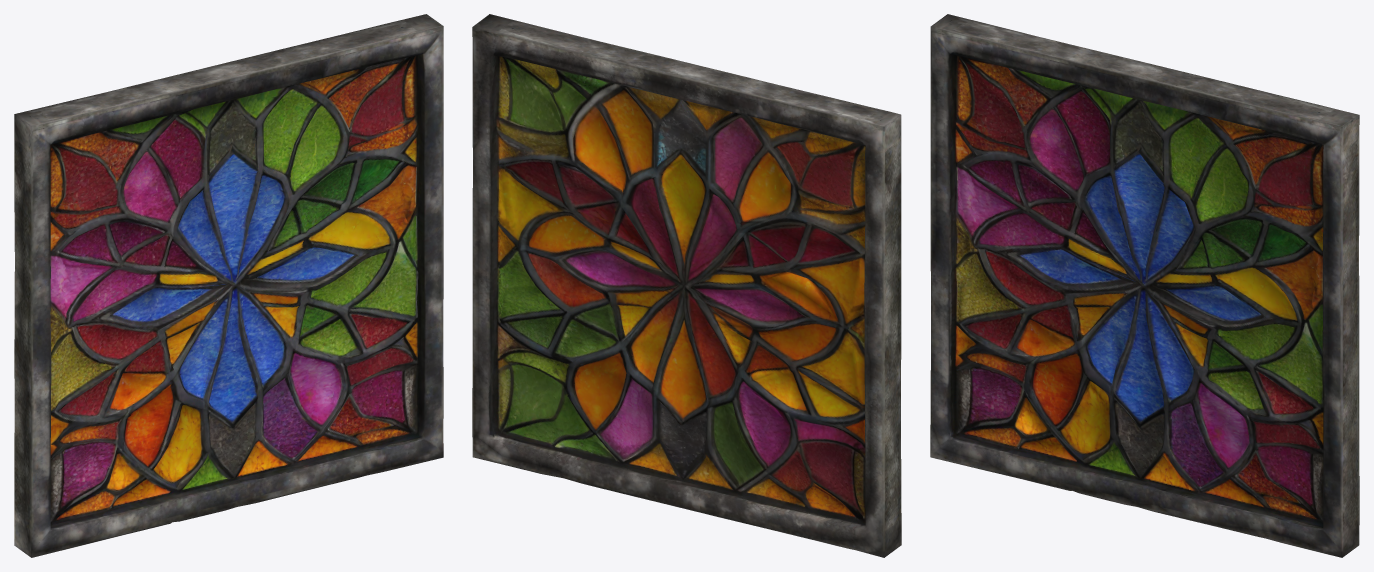
Rendered from testTile7.glb.
3 renders of one model, left to right at view 1: azimuth 30°, elevation 25°; view 2: azimuth 150°, elevation 25°; view 3: azimuth 330°, elevation 25°, orthographic.
Visible parts, largest first — view 1: Mesh_0; view 2: Mesh_0; view 3: Mesh_0.
Boxes of the visible parts, x1=… form: Mesh_0: x1=14, y1=14, x2=443, y2=557; Mesh_0: x1=472, y1=14, x2=901, y2=557; Mesh_0: x1=930, y1=14, x2=1359, y2=557.
Size of the model in its own units: 1 by 1 by 0.073.
1 material, 1 textured.
